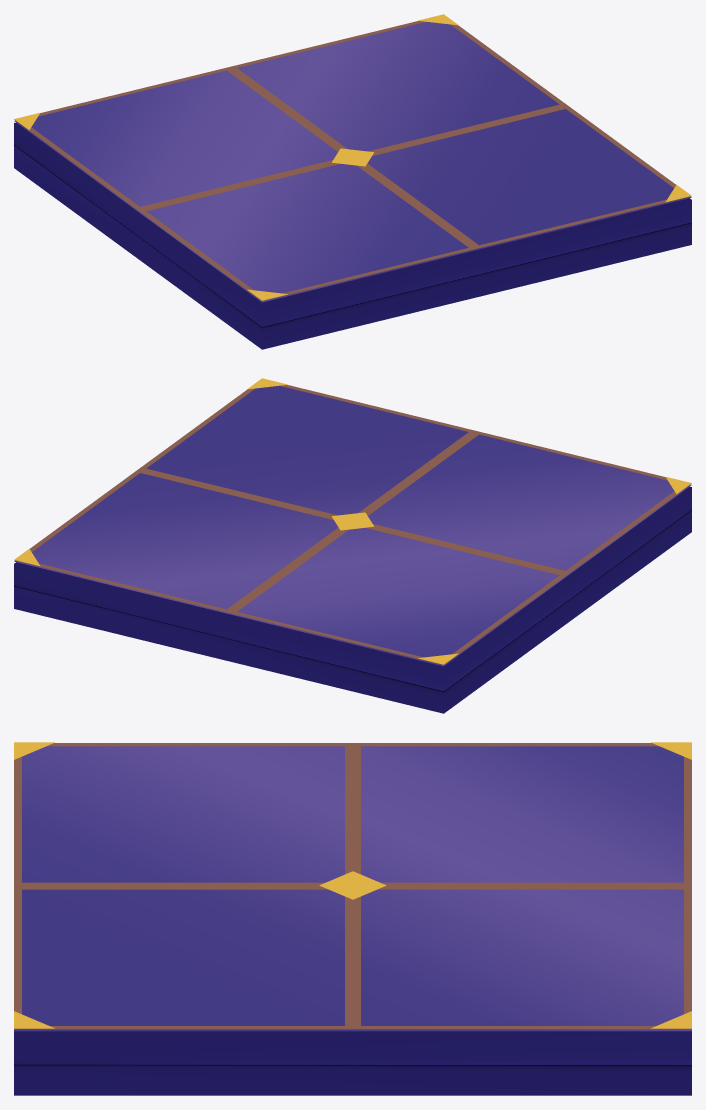
The model's file is tile_boulevard_b.glb.
3 views of the same model, one above another, from view 1: azimuth 30°, elevation 25°; view 2: azimuth 150°, elevation 25°; view 3: azimuth 270°, elevation 25° (orthographic). The views are drawn at different scales.
Parts seen in each view (by area): view 1: Tile.001; view 2: Tile.001; view 3: Tile.001.
Boxes of the visible parts, x1,y1,x2,y2 form: Tile.001: [14, 14, 691, 349]; Tile.001: [14, 378, 691, 713]; Tile.001: [14, 742, 691, 1095].
Size of the model in its own units: 1 by 0.109 by 1.
